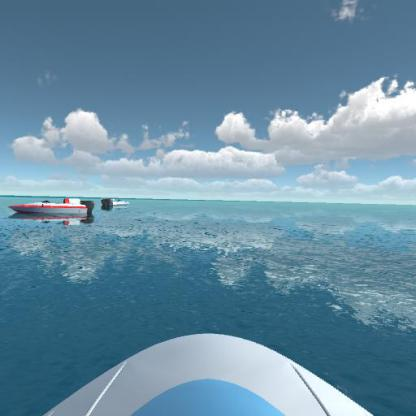usv1: (98, 193, 134, 212)
usv3: (7, 192, 94, 227)
